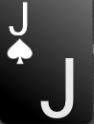Spade: (7, 39, 34, 64)
